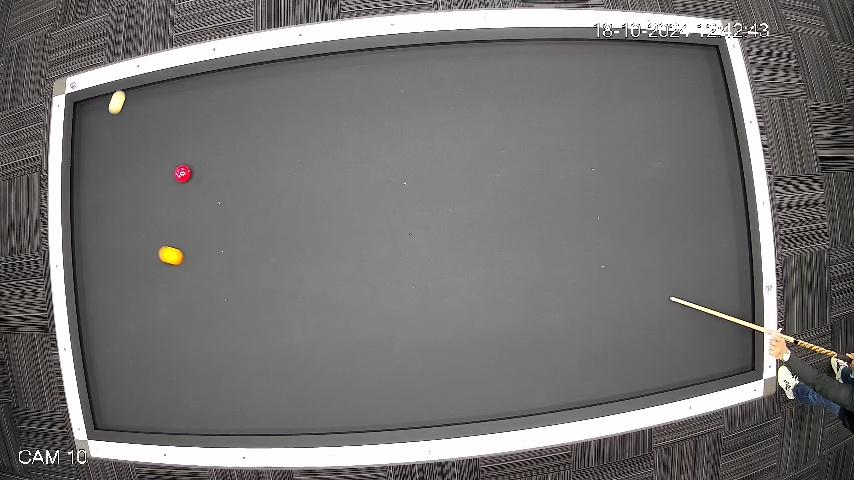Red: (174, 164, 192, 184)
White: (108, 90, 126, 116)
Yellow: (158, 245, 184, 267)
